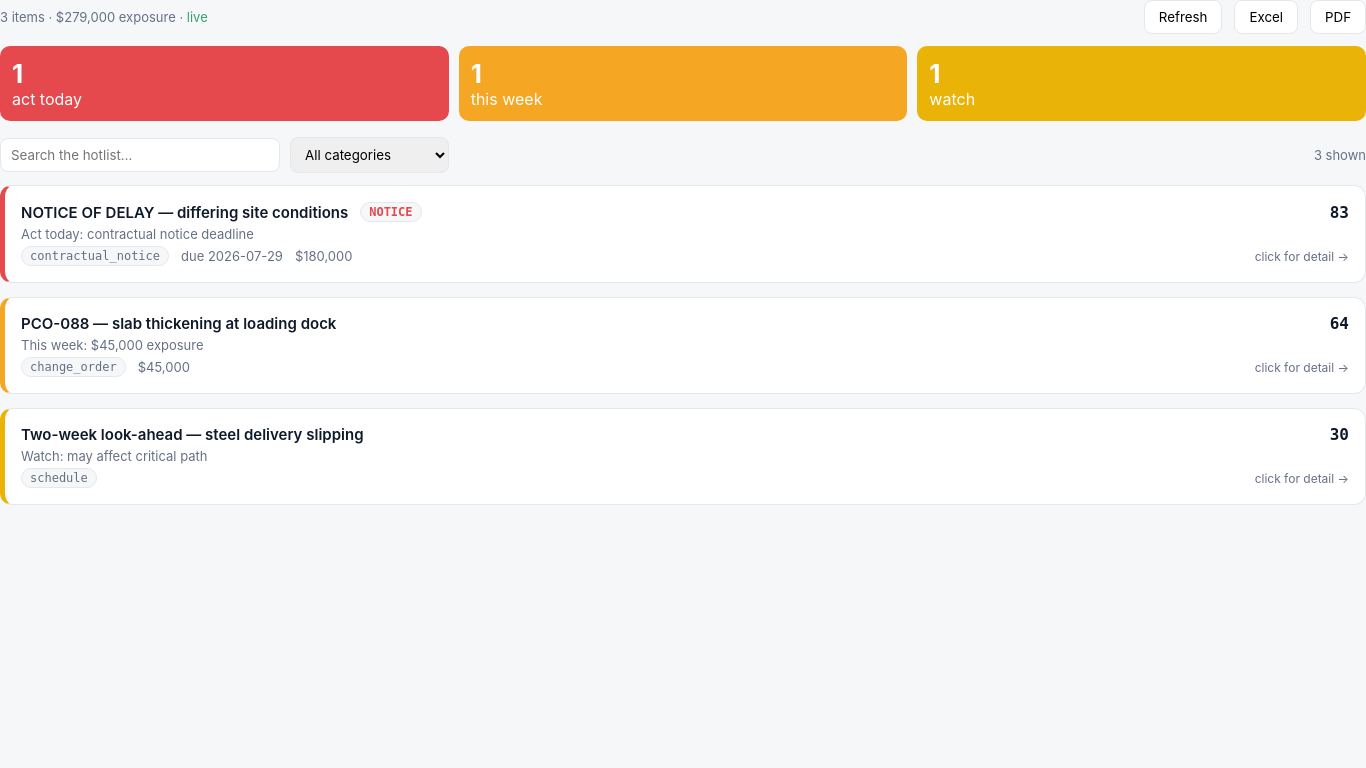
Test: HotlistView › opens the detail modal when a row is clicked
Click the text "NOTICE OF DELAY — differing site conditions" at (185, 212), box x1=21 y1=202 x2=348 y2=222
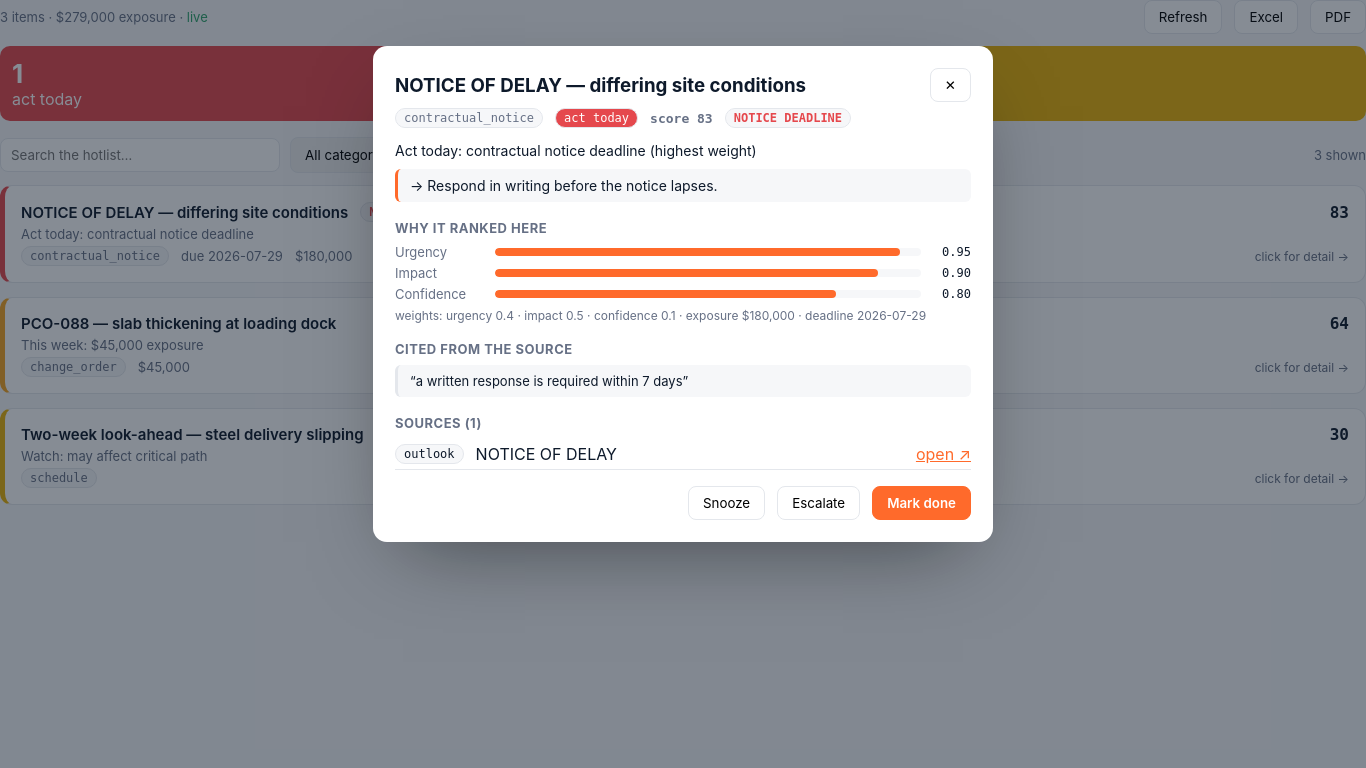
Check: the heading "Why it ranked here" is shown, box x1=395 y1=220 x2=547 y2=236
